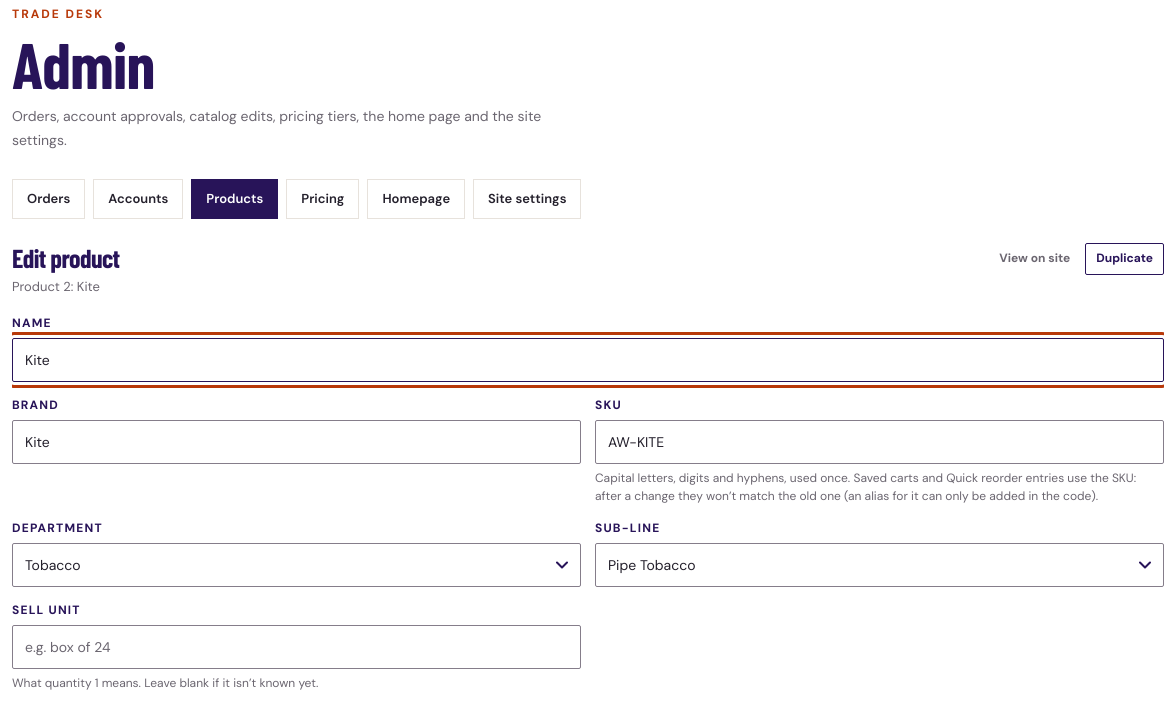
Test: saving (AW-023, AW-116, AW-202) › Duplicate starts a new product from a copy: “ (copy)”, no SKU
(page scrolled)
Click the link "Duplicate".
click(1125, 259)  # box 1085,243 -> 1164,275
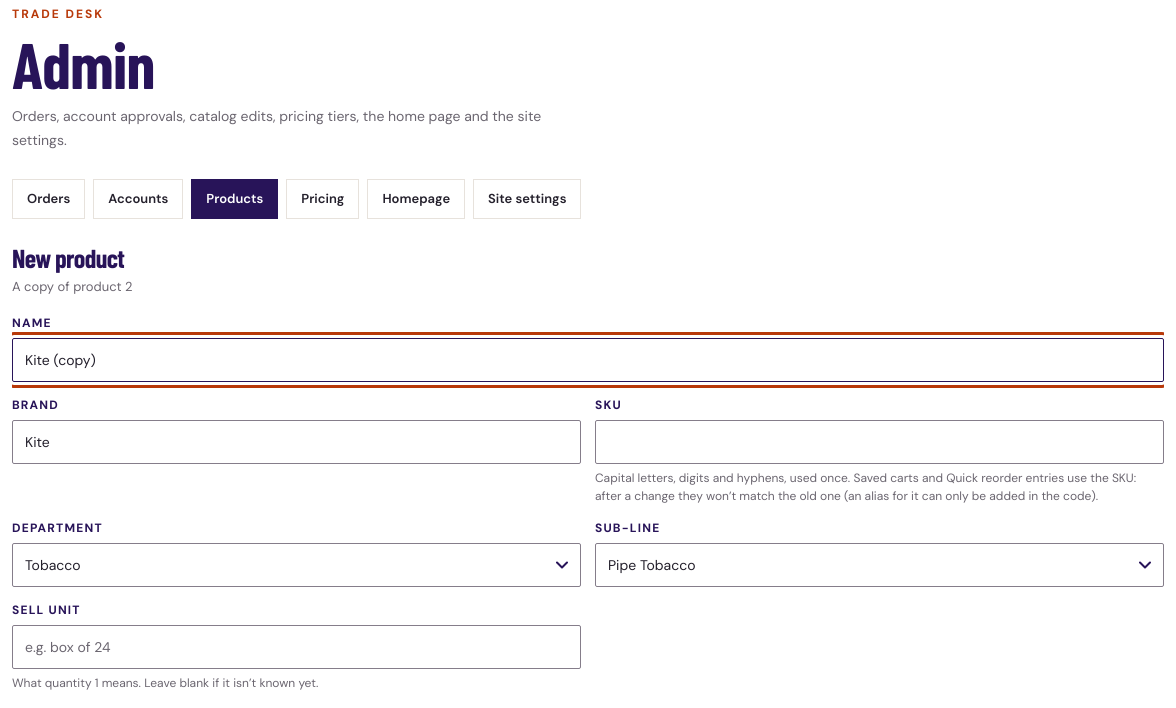
Check: the field labelled "Name" holds "Kite (copy)", box 12,338 -> 1164,382
Check: the field labelled "SKU" is empty, box 595,420 -> 1164,464
Check: the text "A copy of product 2" is shown, box 12,276 -> 132,296
